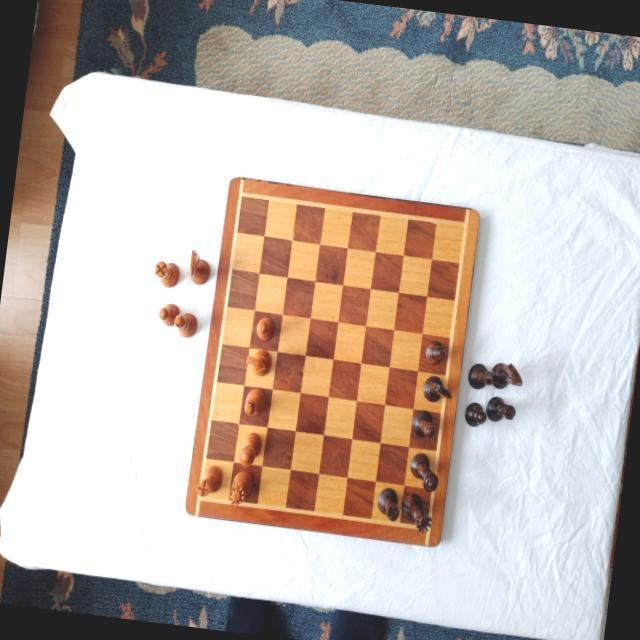black-bishop: (466, 361, 497, 390), (410, 408, 438, 439)
black-king: (407, 451, 441, 492)
black-knight: (489, 360, 524, 392), (422, 375, 454, 404)
black-pawn: (462, 399, 488, 428), (423, 339, 447, 365)
black-queen: (397, 490, 435, 534)
black-rook: (374, 485, 402, 523), (484, 395, 517, 425)
white-bishop: (171, 311, 198, 339), (242, 387, 267, 417)
white-king: (238, 431, 262, 468)
white-knight: (185, 249, 212, 285), (242, 346, 273, 377)
white-pawn: (156, 300, 179, 327), (253, 315, 276, 341)
white-queen: (227, 470, 254, 510)
white-rook: (196, 463, 224, 498), (152, 258, 180, 289)
